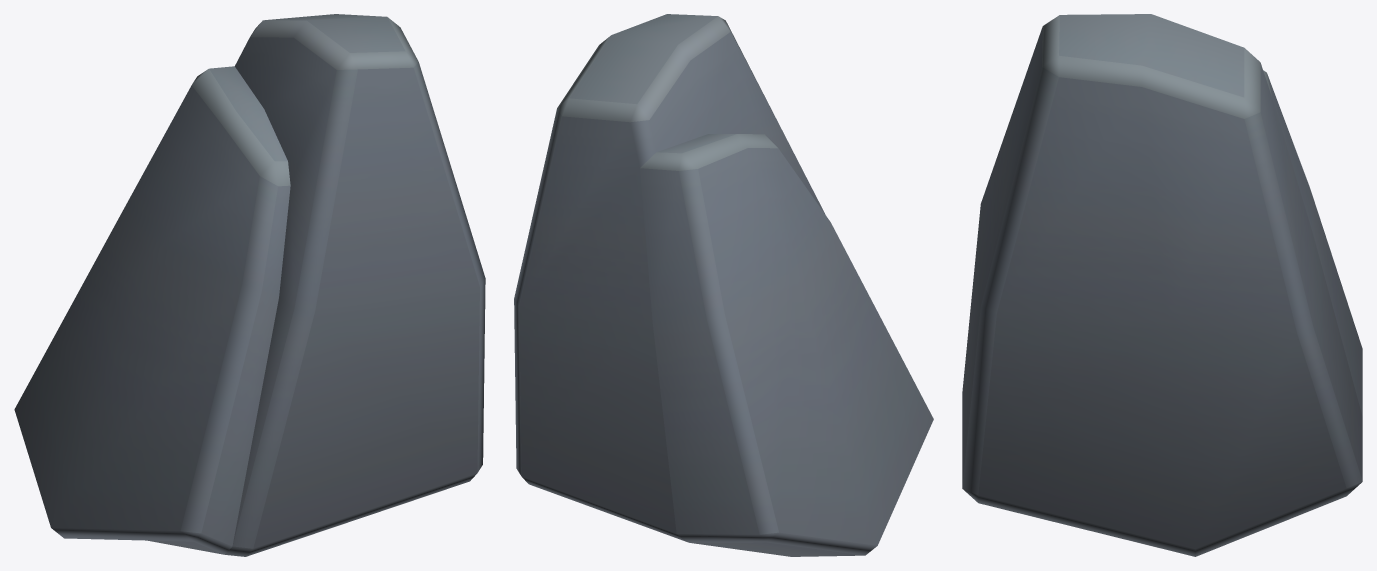
File: rock_011.fbx
The picture shows the model from 3 angles, left to right: view 1: azimuth 30°, elevation 25°; view 2: azimuth 150°, elevation 25°; view 3: azimuth 270°, elevation 25°; orthographic projection. The views are drawn at different scales.
Visible parts, largest first — view 1: rock_011; view 2: rock_011; view 3: rock_011.
Part boxes in pixels (left/top/right/bottom): rock_011: left=14, top=14, right=485, bottom=556; rock_011: left=514, top=14, right=933, bottom=556; rock_011: left=962, top=14, right=1362, bottom=556.
Bounding box in the file's own units: 135 × 181 × 124.
